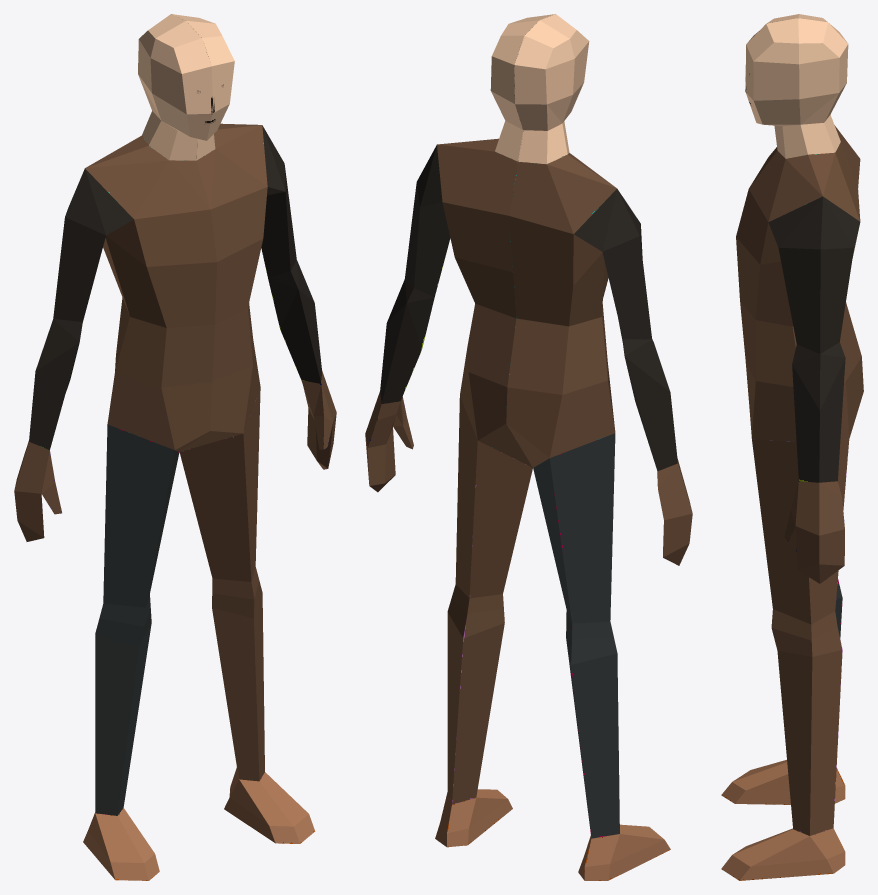
Rendered from mechanic.glb.
The picture shows the model from 3 angles, left to right: view 1: azimuth 30°, elevation 25°; view 2: azimuth 150°, elevation 25°; view 3: azimuth 270°, elevation 25°; orthographic projection.
Visible parts, largest first — view 1: mechanic; view 2: mechanic; view 3: mechanic.
Boxes of the visible parts, left/top/right/bottom form: mechanic: left=14, top=14, right=336, bottom=880; mechanic: left=365, top=14, right=692, bottom=880; mechanic: left=721, top=14, right=863, bottom=880.
Size of the model in its own units: 0.7383 by 1.78 by 0.283.
1 material, 1 textured.
